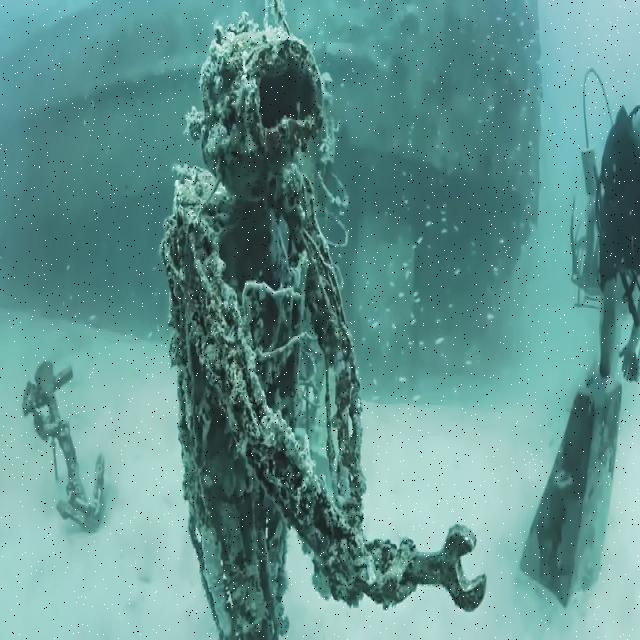wrecks-ruins: (0, 0, 544, 409), (163, 14, 485, 638), (520, 74, 639, 608), (23, 363, 104, 533)
